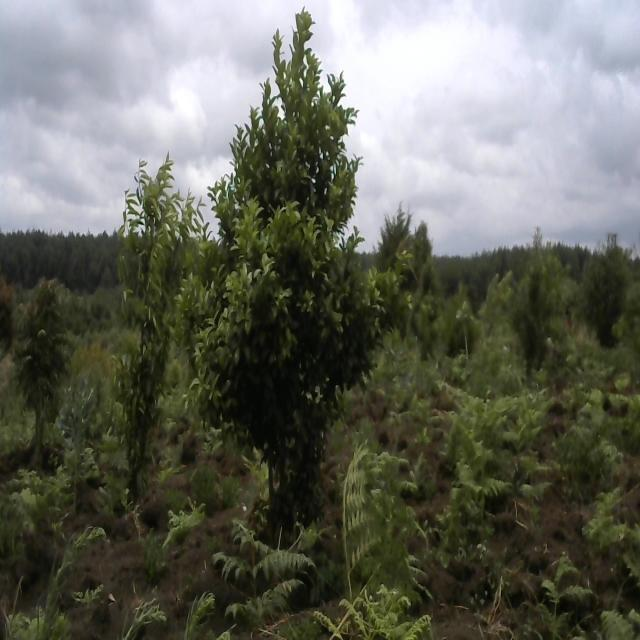Juniperus procesera: (378, 195, 415, 265)
Olea europea -africana-: (584, 233, 628, 334)
Olea welwitchii: (186, 11, 376, 514), (117, 142, 200, 488)
Podocarpus falcatus: (514, 223, 556, 368)
